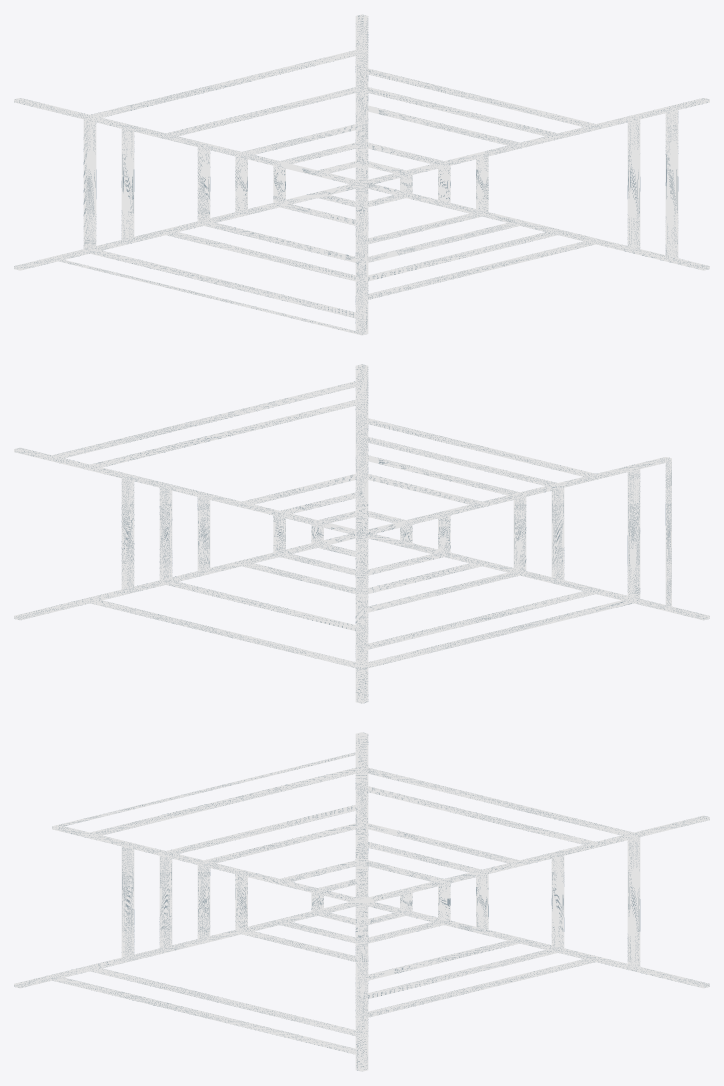
File: Spider_Web_01.fbx
3 views of the same model, one above another, from view 1: azimuth 30°, elevation 25°; view 2: azimuth 150°, elevation 25°; view 3: azimuth 270°, elevation 25° (orthographic).
Visible parts, largest first — view 1: Model; view 2: Model; view 3: Model.
Part boxes in pixels (x1,y1,x2,y2): Model: (14,14,709,335); Model: (14,364,709,703); Model: (14,732,709,1071).
Size of the model in its own units: 464 by 0 by 401.
